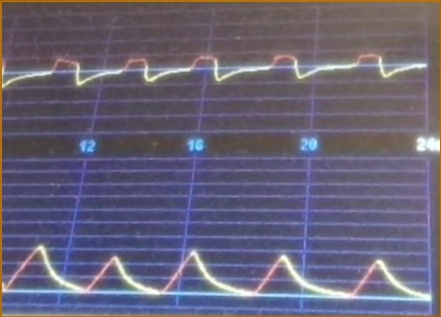Normal Flow: (2, 33, 427, 119)
Normal Volume: (4, 225, 432, 310)
